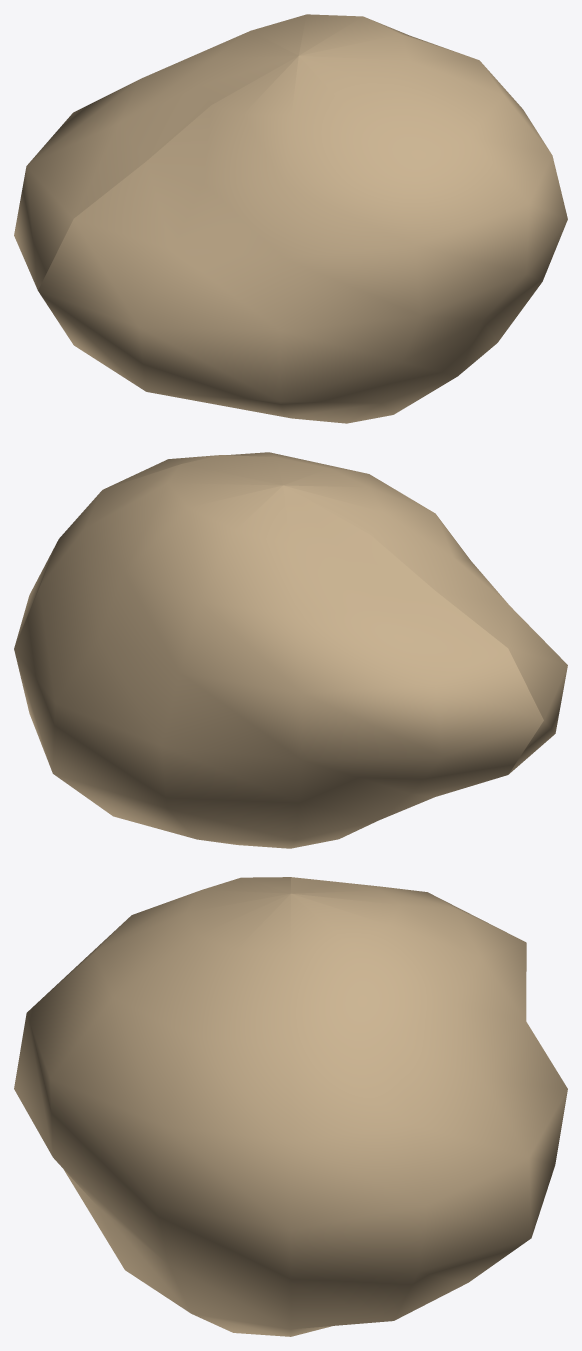
The model's file is left_navicular.glb.
3 views of the same model, one above another, from view 1: azimuth 30°, elevation 25°; view 2: azimuth 150°, elevation 25°; view 3: azimuth 270°, elevation 25° (orthographic). The views are drawn at different scales.
Visible parts, largest first — view 1: left_navicular:body; view 2: left_navicular:body; view 3: left_navicular:body.
Boxes of the visible parts, x1,y1,x2,y2 form: left_navicular:body: (14, 14, 567, 423); left_navicular:body: (14, 452, 567, 848); left_navicular:body: (14, 877, 567, 1336).
Size of the model in its own units: 0.0968 by 0.0616 by 0.0792.
